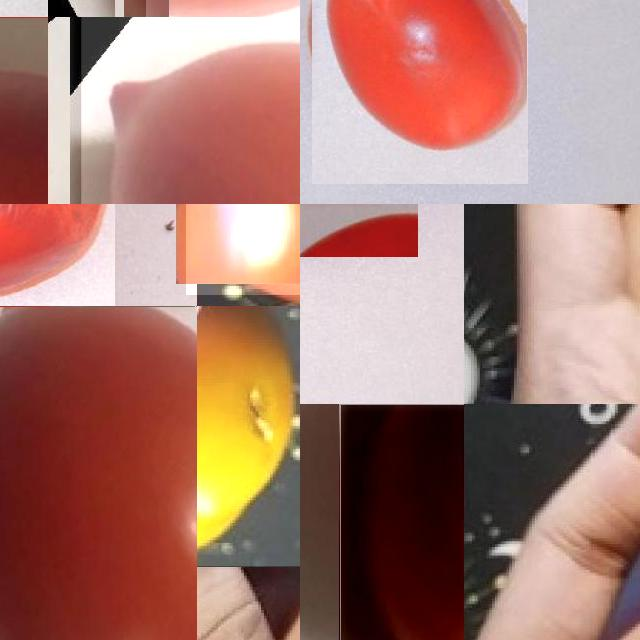Fresh Tomato: (0, 306, 197, 640), (81, 17, 300, 204), (312, 0, 528, 184), (339, 404, 464, 640), (186, 204, 300, 295), (0, 17, 48, 204)
Rotten Tomato: (197, 306, 300, 566), (0, 204, 115, 306), (300, 204, 418, 257)
